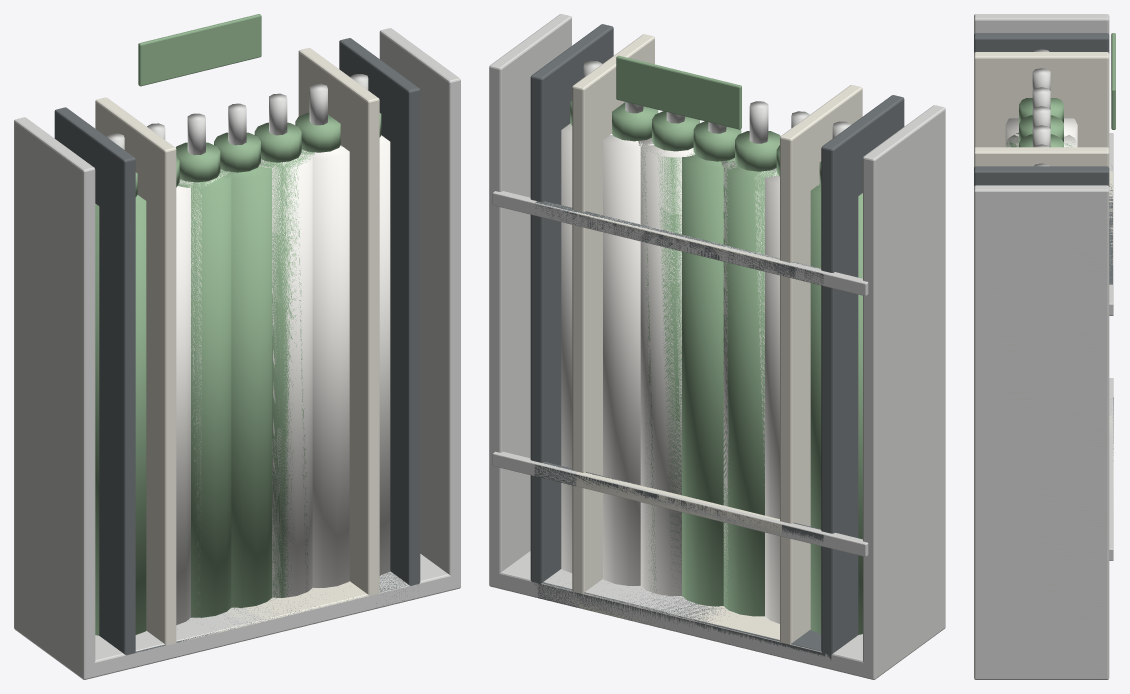
Rendered from Gear10.fbx.
3 views of the same model, side by side, from view 1: azimuth 30°, elevation 25°; view 2: azimuth 150°, elevation 25°; view 3: azimuth 270°, elevation 25° (orthographic). The views are drawn at different scales.
Visible parts, largest first — view 1: Gear10_V10_Chrome, Gear10_V3_Charcoal, Gear10_V1_Ivory, Gear10_V3_Paper, Gear10_V10_Leaf, Gear10_V1_Leaf, Gear10_V3_Leaf, Gear10_V1_Paper, Gear10_V10_Paper, Gear10_V3_Chrome, Gear10_V1_Chrome; view 2: Gear10_V10_Chrome, Gear10_V3_Charcoal, Gear10_V1_Ivory, Gear10_V3_Paper, Gear10_V10_Leaf, Gear10_V3_Leaf, Gear10_V1_Leaf, Gear10_V1_Paper, Gear10_V10_Paper, Gear10_V1_Chrome; view 3: Gear10_V10_Chrome, Gear10_V1_Ivory, Gear10_V3_Charcoal, Gear10_V10_Leaf, Gear10_V3_Leaf, Gear10_V3_Chrome, Gear10_V1_Chrome, Gear10_V3_Paper, Gear10_V1_Leaf, Gear10_V10_Paper, Gear10_V6_Chrome.
Part boxes in pixels (<box>): Gear10_V10_Chrome: <box>14,28,460,679</box>; Gear10_V3_Charcoal: <box>54,38,420,668</box>; Gear10_V1_Ivory: <box>95,48,379,654</box>; Gear10_V3_Paper: <box>176,146,349,624</box>; Gear10_V10_Leaf: <box>95,14,381,635</box>; Gear10_V1_Leaf: <box>176,122,301,617</box>; Gear10_V3_Leaf: <box>176,112,340,607</box>; Gear10_V1_Paper: <box>259,150,314,597</box>; Gear10_V10_Paper: <box>184,135,390,605</box>; Gear10_V3_Chrome: <box>147,83,327,145</box>; Gear10_V1_Chrome: <box>188,93,287,154</box>; Gear10_V10_Chrome: <box>489,14,945,679</box>; Gear10_V3_Charcoal: <box>530,24,904,665</box>; Gear10_V1_Ivory: <box>572,34,862,644</box>; Gear10_V3_Paper: <box>603,134,818,623</box>; Gear10_V10_Leaf: <box>570,55,862,634</box>; Gear10_V3_Leaf: <box>612,102,779,606</box>; Gear10_V1_Leaf: <box>652,111,780,616</box>; Gear10_V1_Paper: <box>638,138,694,596</box>; Gear10_V10_Paper: <box>561,123,777,591</box>; Gear10_V1_Chrome: <box>666,101,767,143</box>; Gear10_V10_Chrome: <box>974,14,1113,679</box>; Gear10_V1_Ivory: <box>974,52,1113,510</box>; Gear10_V3_Charcoal: <box>974,33,1113,460</box>; Gear10_V10_Leaf: <box>1019,33,1115,141</box>; Gear10_V3_Leaf: <box>1019,98,1063,147</box>; Gear10_V3_Chrome: <box>1032,68,1050,147</box>; Gear10_V1_Chrome: <box>1032,87,1050,147</box>; Gear10_V3_Paper: <box>1005,118,1077,143</box>; Gear10_V1_Leaf: <box>1006,116,1073,147</box>; Gear10_V10_Paper: <box>1005,132,1077,147</box>; Gear10_V6_Chrome: <box>1032,50,1050,143</box>.
Bounding box in the file's own units: 93 × 130 × 31.5.
